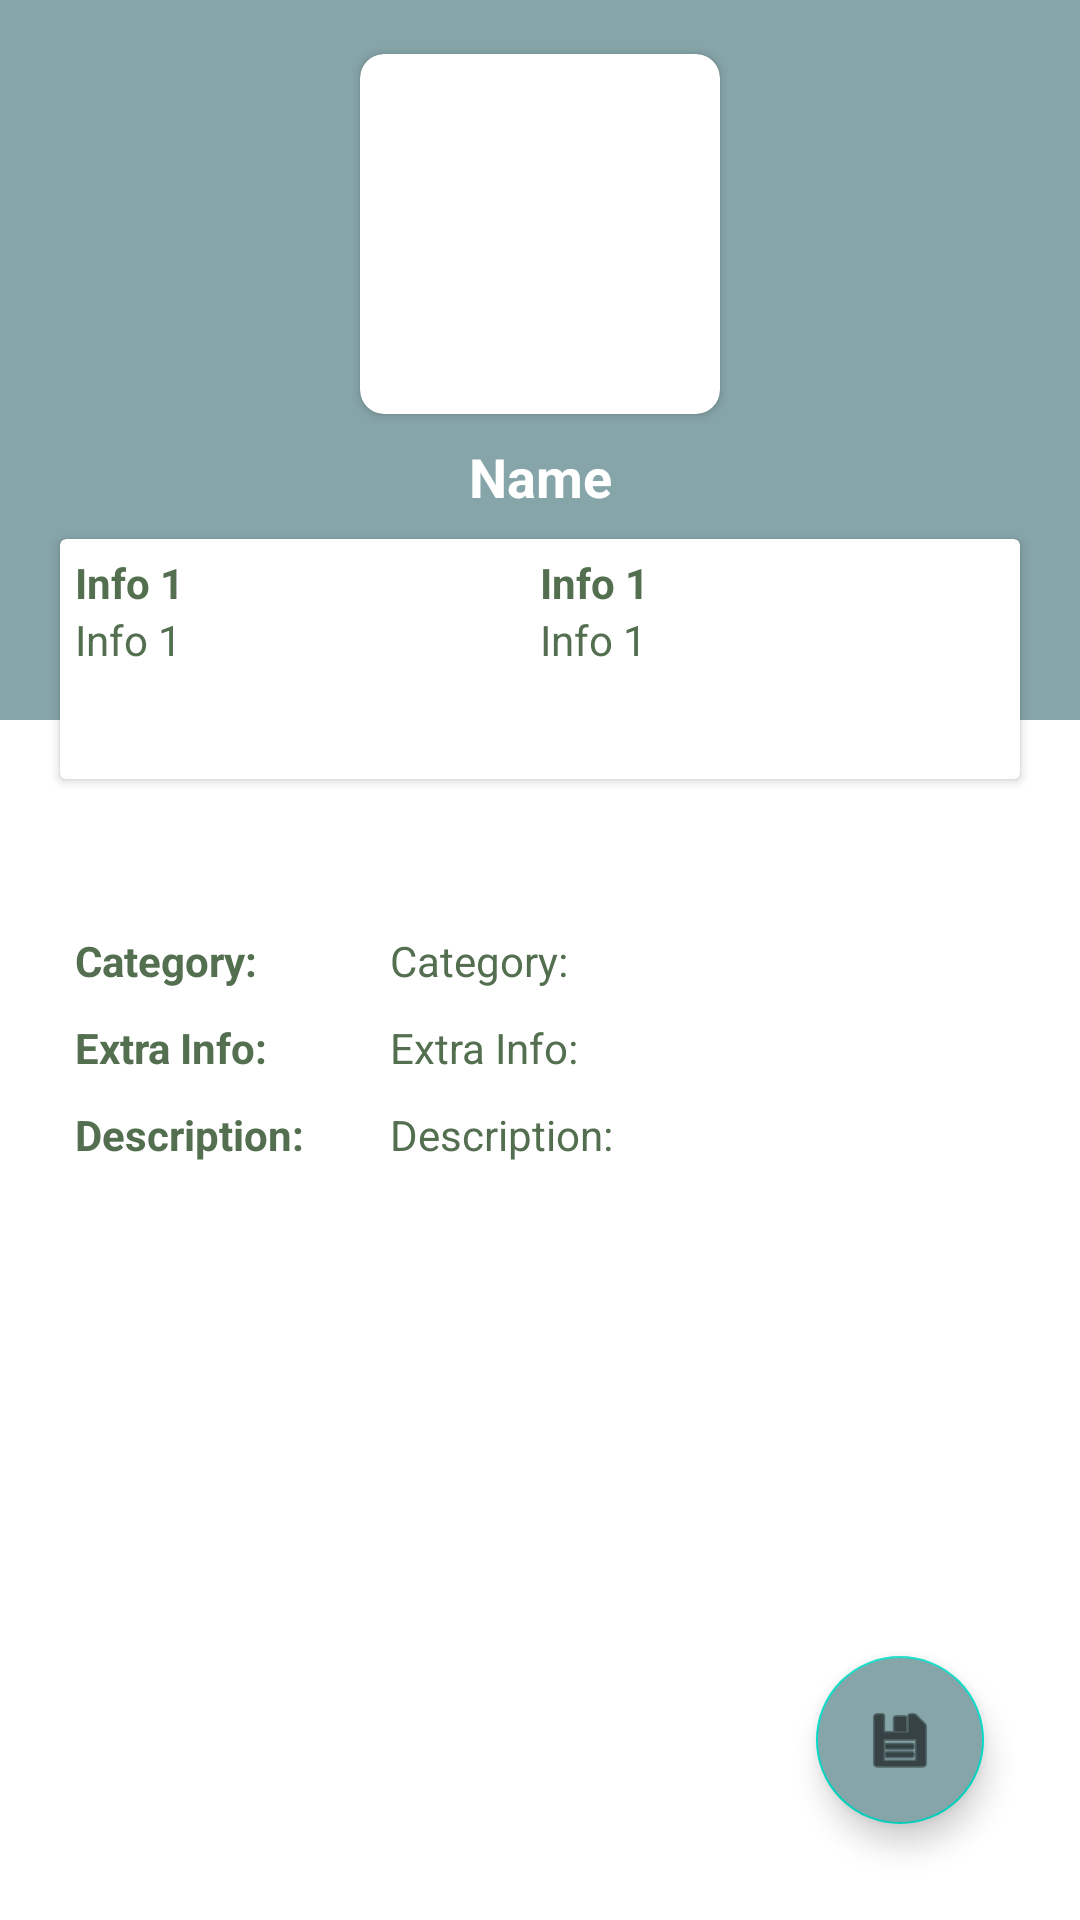

Icon bounding boxes for this 1080 x 1920 phone screenshot, format (x1, y1, x2, y2):
Save or Update Entry: (816, 1656, 984, 1824)
